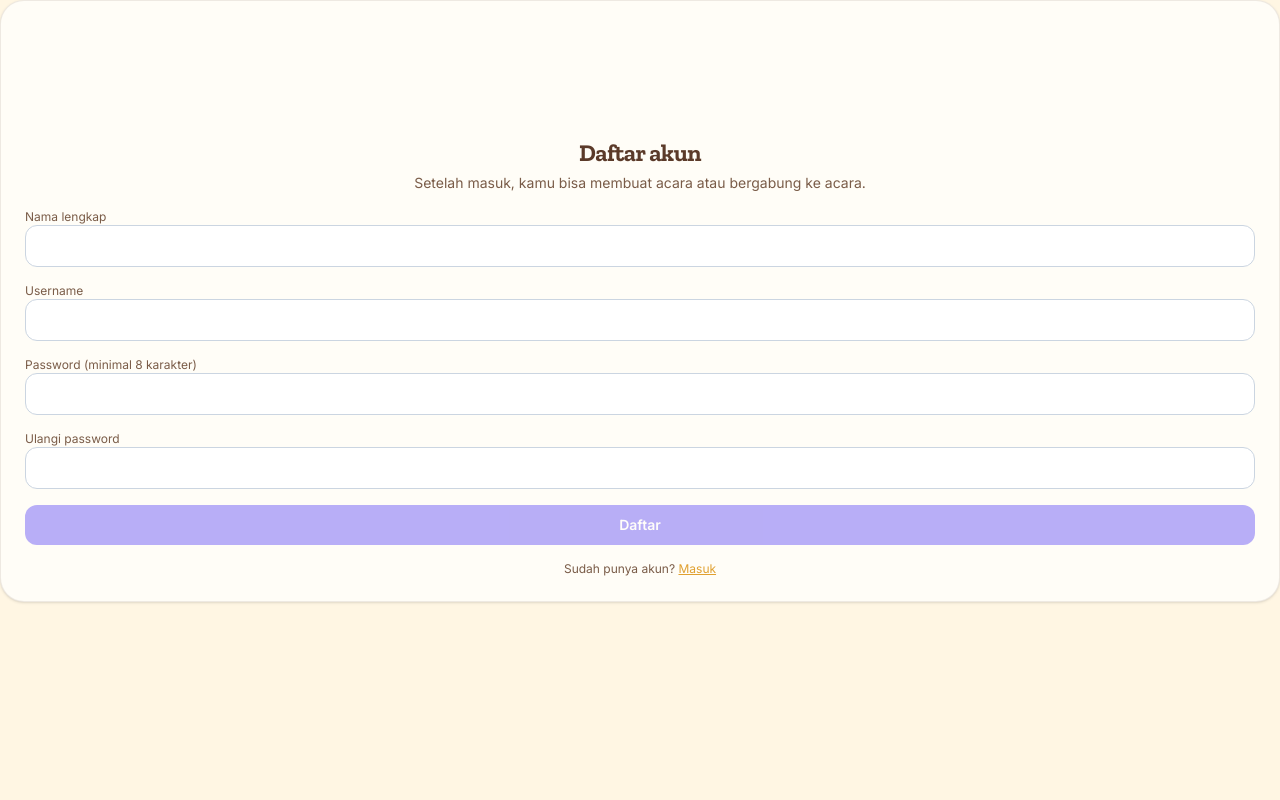
username sudah dipakai: pesan dari server ditampilkan
Type "Uji" into the field labelled "Nama lengkap" at [640, 246], box x1=25 y1=225 x2=1255 y2=267
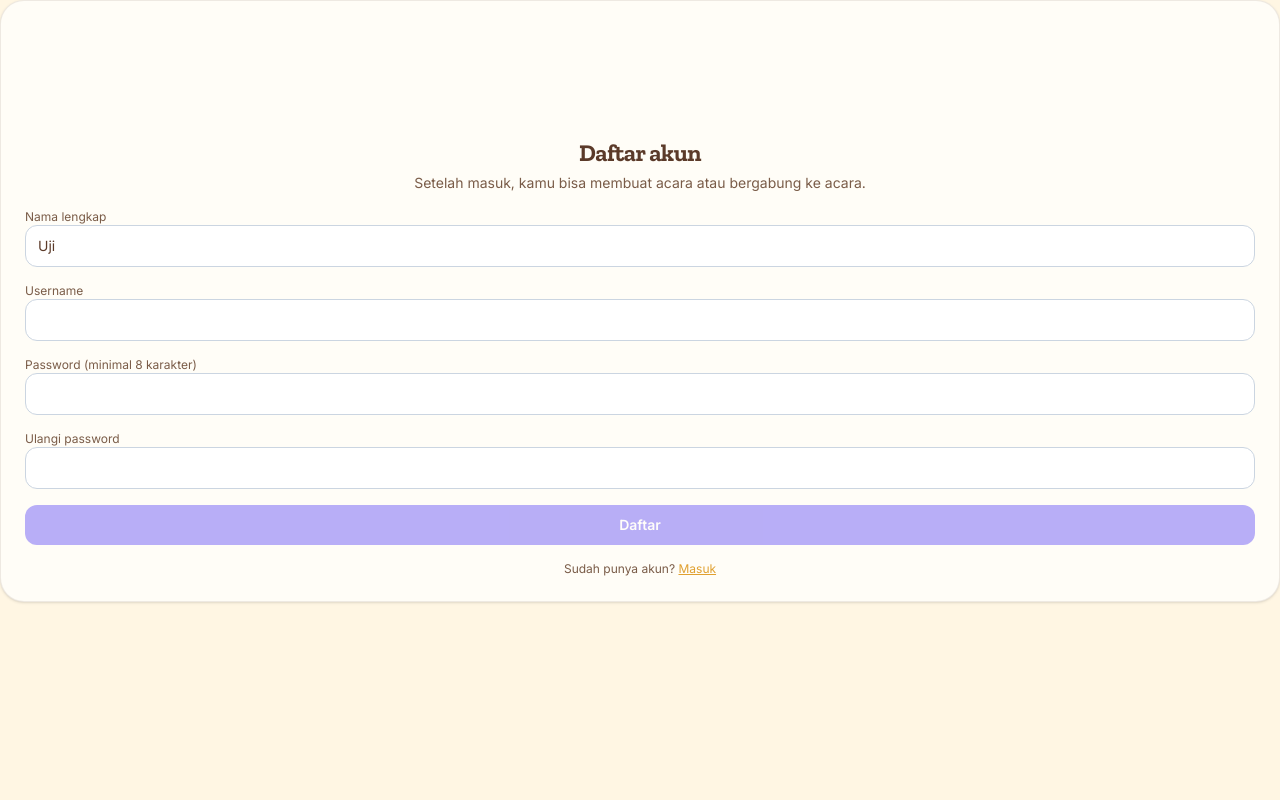
Type "uji_user" into the field labelled "Username" at [640, 320], box x1=25 y1=299 x2=1255 y2=341
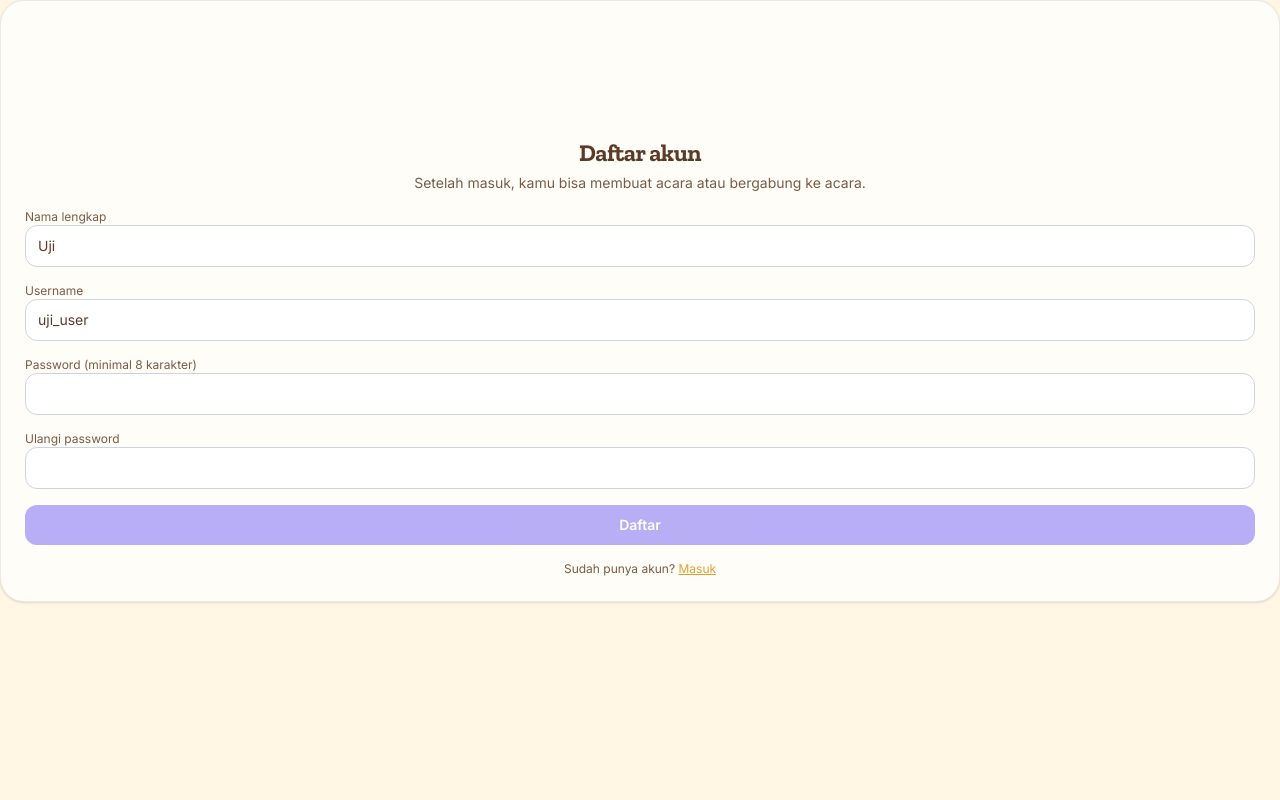
Type "sandi-uji-2031" into the password field labelled "Password (minimal 8 karakter)" at [640, 394], box x1=25 y1=373 x2=1255 y2=415
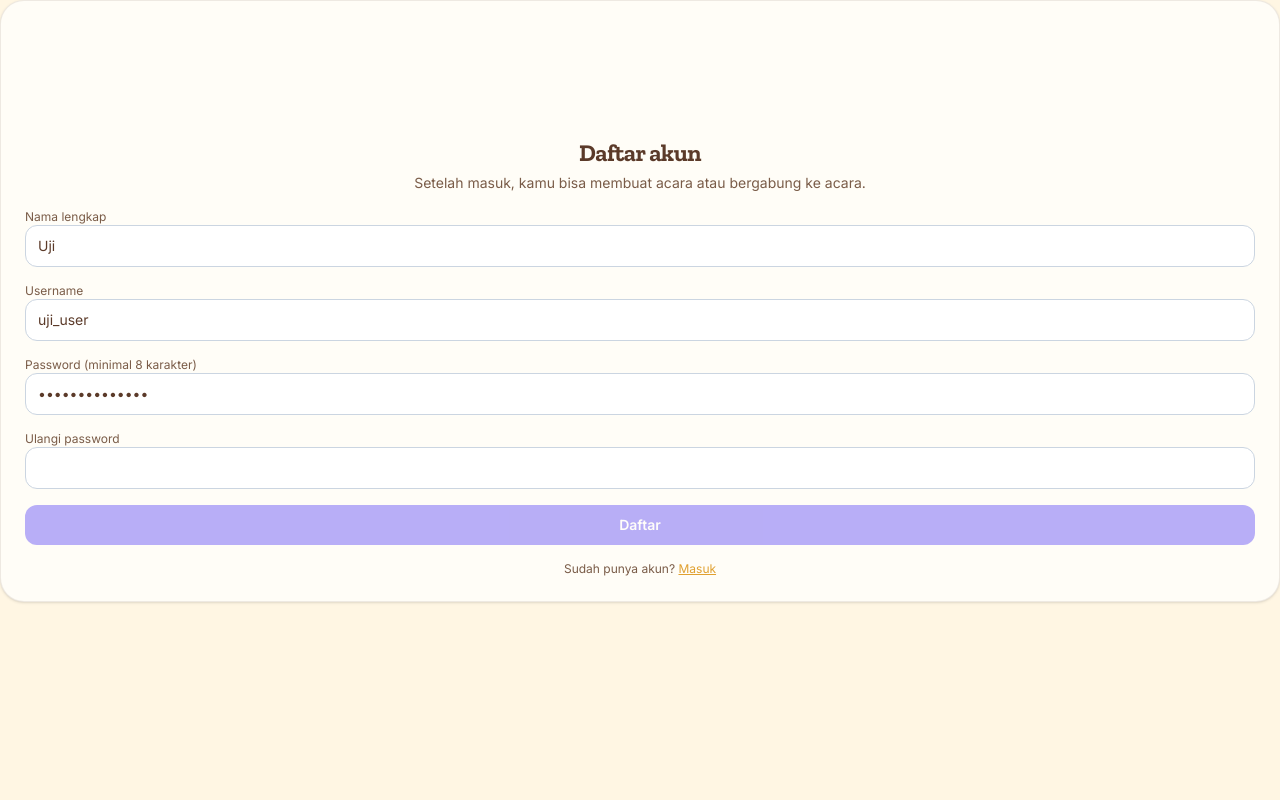
Type "sandi-uji-2031" into the password field labelled "Ulangi password" at [640, 468], box x1=25 y1=447 x2=1255 y2=489
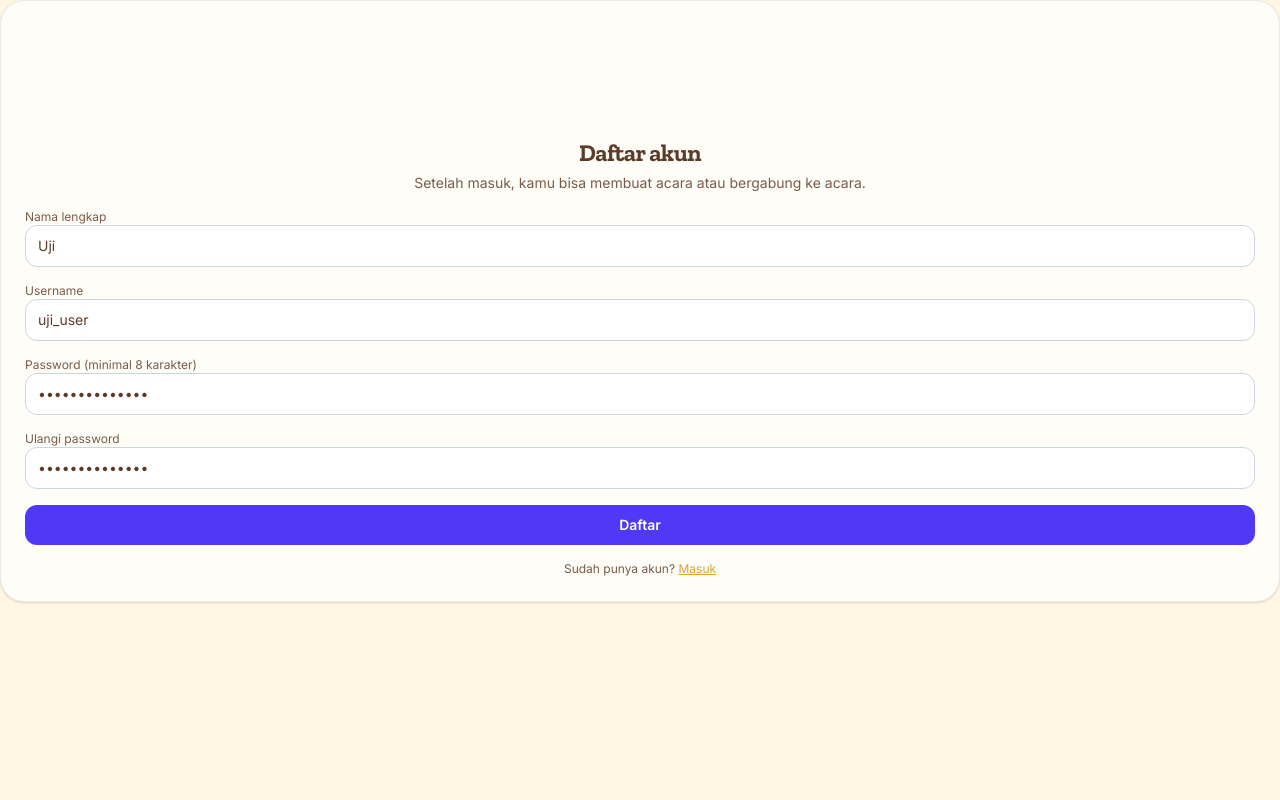
Submit the form, box x1=25 y1=209 x2=1255 y2=577
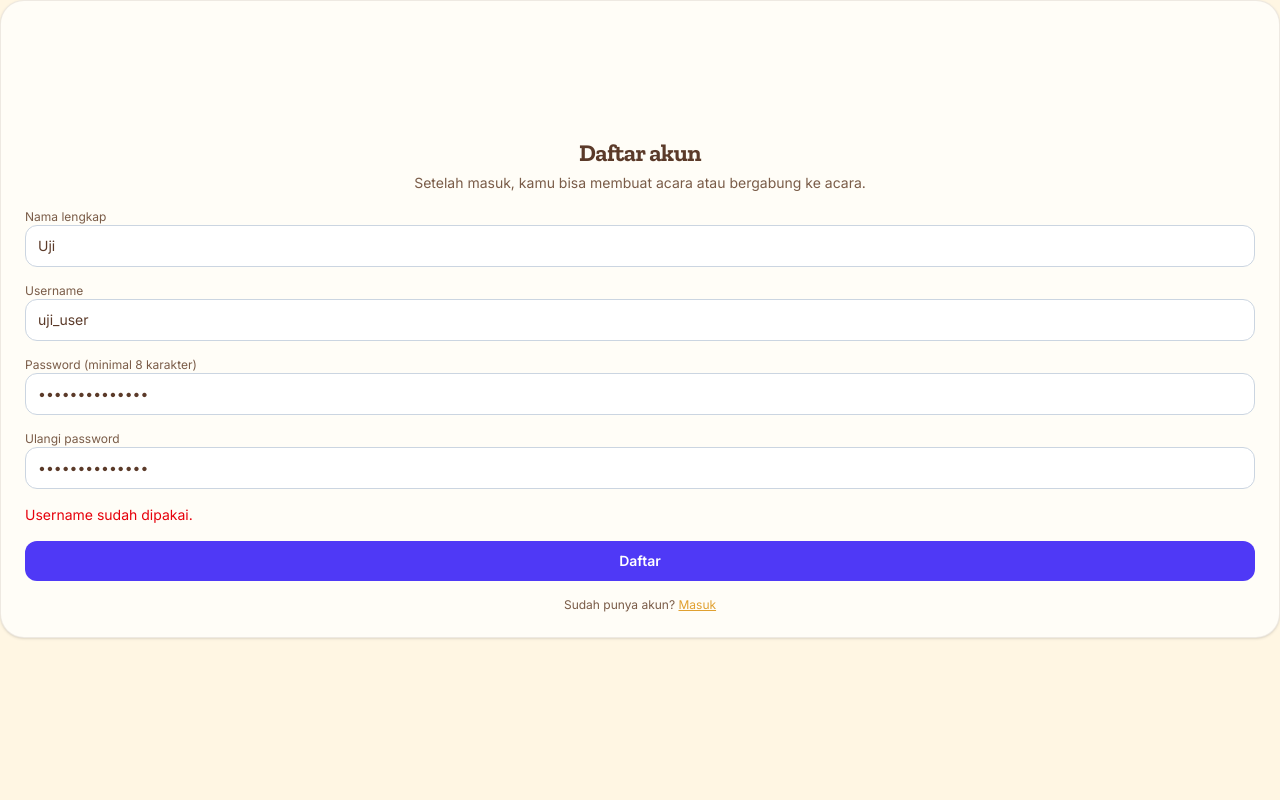
Expected: the message reads "Username sudah dipakai.", x1=25 y1=506 x2=193 y2=523
